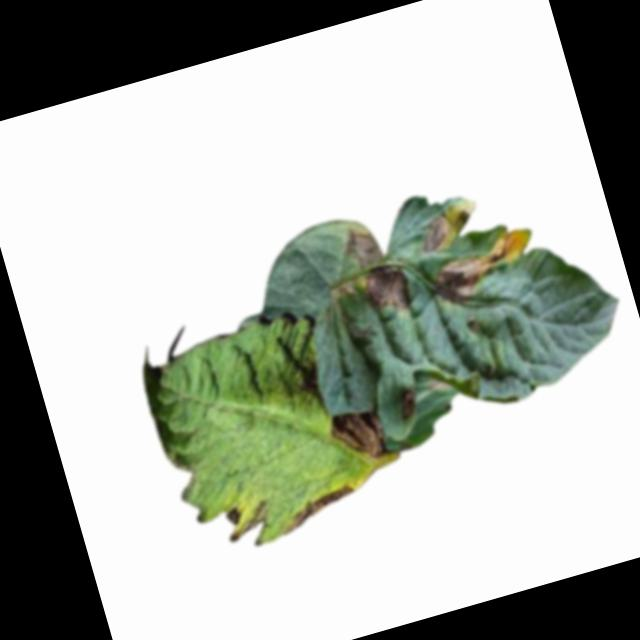Early_blight: (424, 224, 541, 310), (275, 482, 361, 538), (327, 404, 390, 469), (360, 261, 415, 321), (336, 215, 386, 273), (414, 209, 459, 254), (393, 379, 424, 421), (222, 502, 246, 527)
